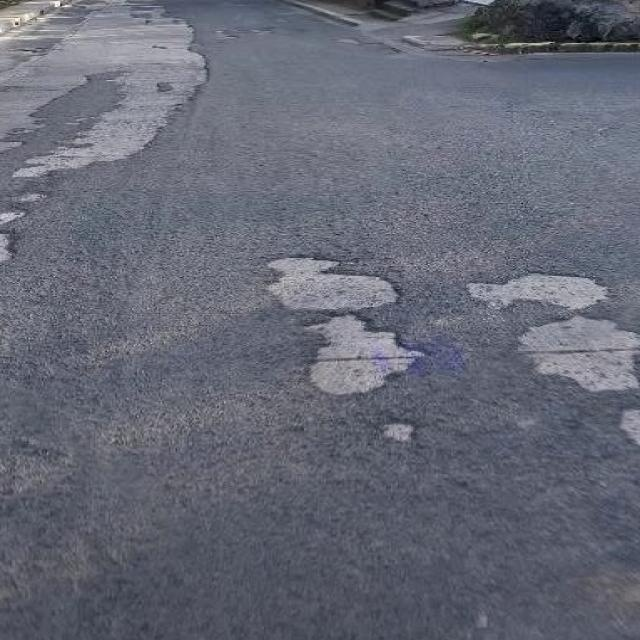pothole: (0, 3, 261, 254), (260, 235, 452, 403), (436, 236, 640, 316), (501, 312, 640, 413), (362, 402, 464, 454)
